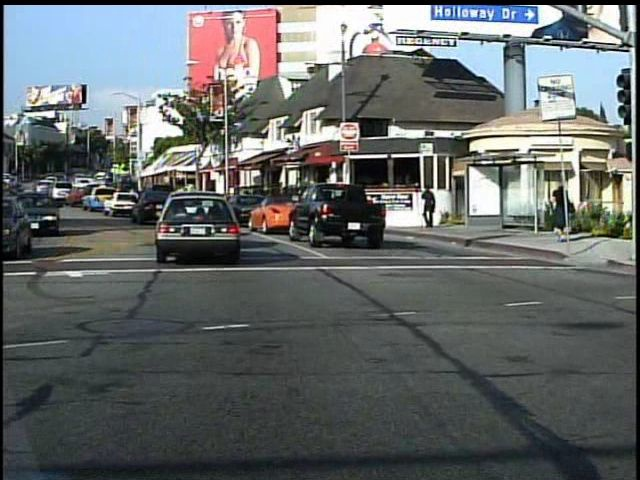person: (547, 177, 576, 250), (420, 185, 436, 235)
